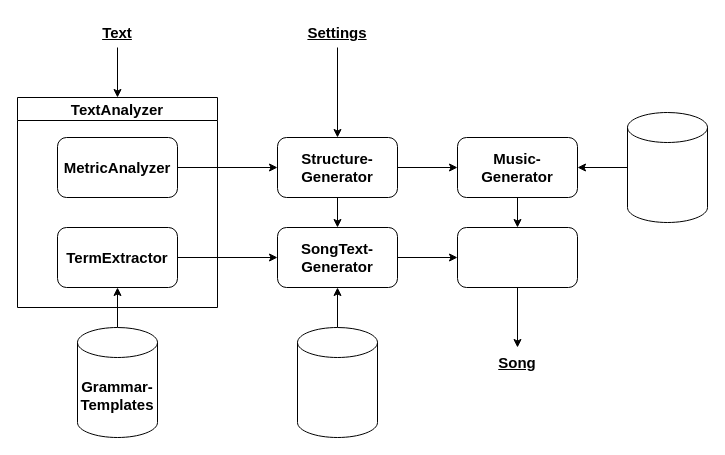
The diagram is 725 pixels wide and 455 high, and some of its shapes have lost their labels. The box of each missing label's shape, as (x1, y1, x2, y2) in pixels:
Music-Templates: (626, 112, 708, 222)
SongText-Templates: (296, 326, 378, 438)
TMAU: (456, 226, 578, 288)
